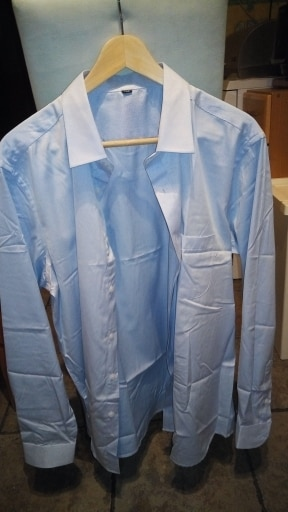shirts: (12, 49, 275, 486)
